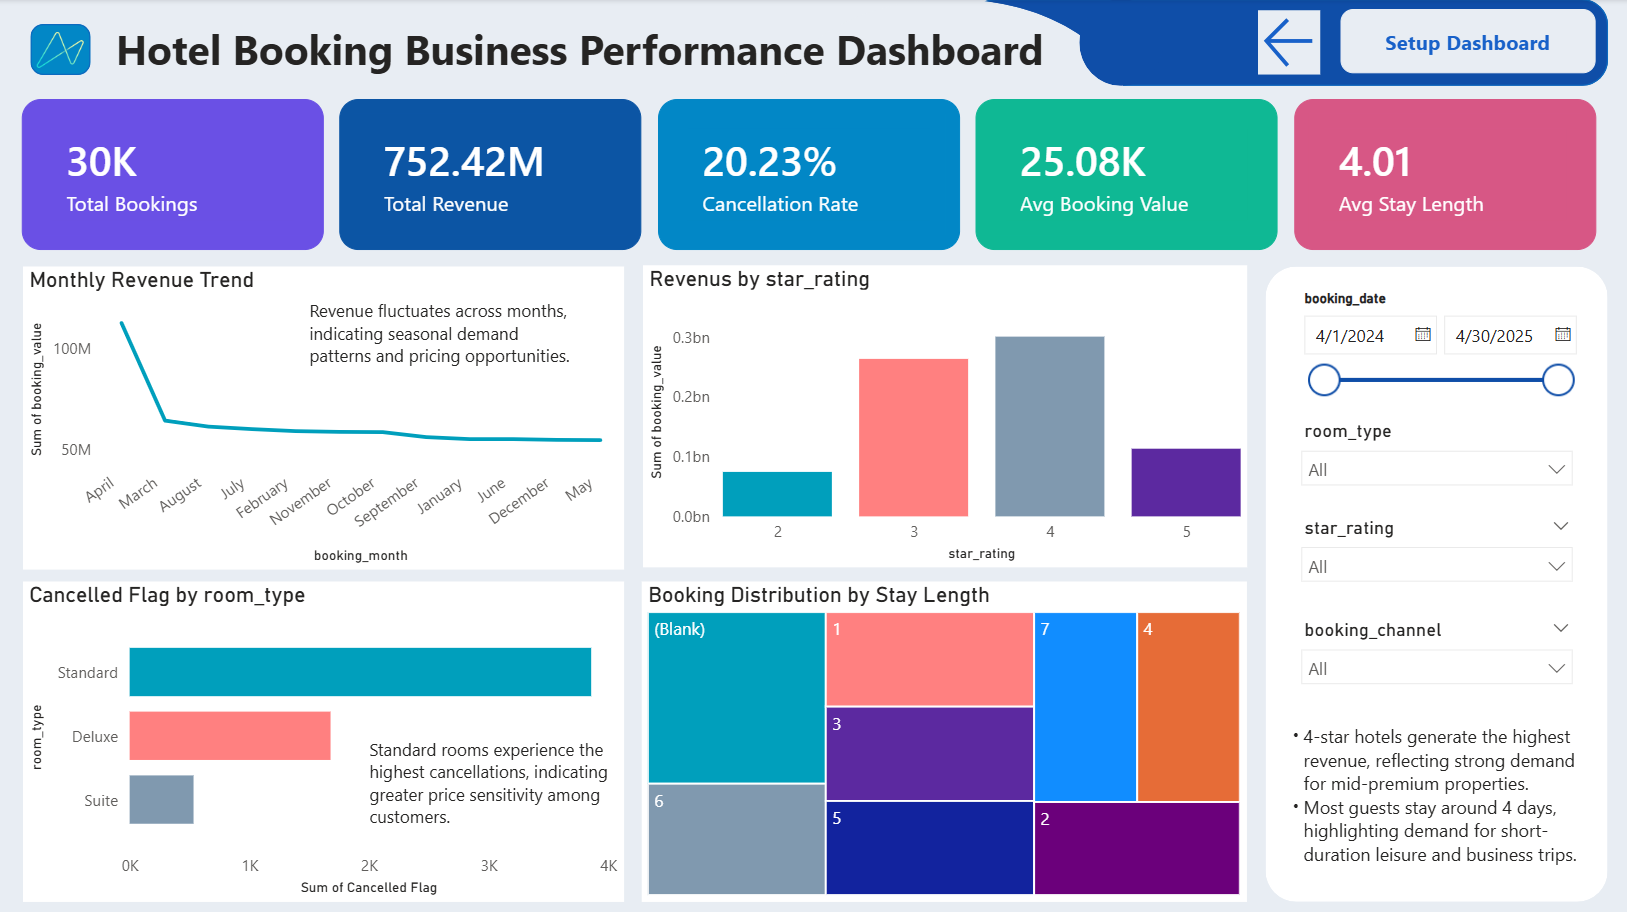

What the dashboard file says about the page in this screenshot:
{"tool":"powerbi","page":{"name":"Root Cause & Business Insights","canvas":[1280,720],"ordinal":1},"visuals":[{"type":"shape","box":[761.8,0,500.8,68.2],"z":0},{"type":"shape","box":[25.9,19.9,47,40],"z":0,"group":"g1"},{"type":"cardVisual","fields":{"Data":["Table.Total Bookings"]},"box":[18.8,78.6,237,118.7],"z":0,"group":"g3"},{"type":"shape","box":[608.7,0,278.3,182.7],"z":1000},{"type":"group","id":"g1","title":"Group 2","box":[25.9,19.9,47,40],"z":1000,"group":"g2"},{"type":"cardVisual","fields":{"Data":["Table.Total Revenue"]},"box":[268.1,78.6,237,118.7],"z":1000,"group":"g3"},{"type":"shape","box":[847.6,0,65.8,68.2],"z":2000},{"type":"cardVisual","fields":{"Data":["Table.Cancellation Rate"]},"box":[517.5,78.6,237,118.7],"z":2000,"group":"g3"},{"type":"textbox","box":[87.2,12.9,755.9,55.3],"z":3000,"group":"g2"},{"type":"cardVisual","fields":{"Data":["Table.Avg Booking Value"]},"box":[766.8,78.6,237,118.7],"z":3000,"group":"g3"},{"type":"shape","box":[993.4,209.8,268.3,498],"z":3000},{"type":"image","box":[30.6,23.5,36.7,32.9],"z":4000,"group":"g1"},{"type":"cardVisual","fields":{"Data":["Table.Avg Stay Length"]},"box":[1016.2,78.6,237,118.7],"z":4000,"group":"g3"},{"type":"slicer","fields":{"Values":["hotel_cleaned.room_type"]},"box":[1011.7,325,233.1,69.3],"z":4000},{"type":"slicer","fields":{"Values":["hotel_cleaned.booking_channel"]},"box":[1011.7,481.3,233.1,68],"z":5000},{"type":"slicer","fields":{"Values":["hotel_cleaned.star_rating"]},"box":[1011.7,400.6,233.1,71.8],"z":6000},{"type":"treemap","title":"Booking Distribution by Stay Length","fields":{"Group":["hotel_cleaned.stay_length"],"Values":["CountNonNull(hotel_cleaned.customer_id)"]},"box":[505,457,474,251],"z":7000},{"type":"actionButton","box":[1052.2,8.2,199.9,50.6],"z":8000},{"type":"group","id":"g2","title":"Group 3","box":[25.9,12.9,817,55.3],"z":9000},{"type":"group","id":"g3","title":"Group 1","box":[18.8,78.6,1234.4,118.7],"z":10000},{"type":"lineChart","title":"Monthly Revenue Trend","fields":{"Category":["hotel_cleaned.booking_month"],"Y":["Sum(hotel_cleaned.booking_value)"]},"box":[20,209.3,471.4,237.5],"z":11000},{"type":"slicer","fields":{"Values":["hotel_cleaned.booking_date"]},"box":[1011.7,223,233.1,93.2],"z":12000},{"type":"columnChart","title":"Revenus by star_rating","fields":{"Category":["hotel_cleaned.star_rating"],"Y":["Sum(hotel_cleaned.booking_value)"]},"box":[505.2,209.1,473.7,236.9],"z":13000},{"type":"clusteredBarChart","title":"Cancelled Flag by room_type","fields":{"Category":["hotel_cleaned.room_type"],"Y":["Sum(hotel_cleaned.Cancelled Flag)"]},"box":[20,457,471,251],"z":14000},{"type":"textbox","box":[239.4,230.6,225.5,69.3],"z":15000},{"type":"textbox","box":[286,574.5,219.2,93.2],"z":16000},{"type":"textbox","box":[1000.3,563.1,259.5,126],"z":17000},{"type":"actionButton","box":[987.7,8.8,49.1,50.4],"z":18000}]}

Visuals, with their boxes in screenshot pixels (x1, y1, x2, y2), scaled from the page's 1280x720 canvas onto the 1627x912 screenshot:
shape: bbox=(968, 0, 1605, 86)
shape: bbox=(33, 25, 93, 76)
cardVisual - Table.Total Bookings: bbox=(24, 100, 325, 250)
shape: bbox=(774, 0, 1127, 231)
"Group 2" group: bbox=(33, 25, 93, 76)
cardVisual - Table.Total Revenue: bbox=(341, 100, 642, 250)
shape: bbox=(1077, 0, 1161, 86)
cardVisual - Table.Cancellation Rate: bbox=(658, 100, 959, 250)
textbox: bbox=(111, 16, 1072, 86)
cardVisual - Table.Avg Booking Value: bbox=(975, 100, 1276, 250)
shape: bbox=(1263, 266, 1604, 897)
image: bbox=(39, 30, 86, 71)
cardVisual - Table.Avg Stay Length: bbox=(1292, 100, 1593, 250)
slicer - hotel_cleaned.room_type: bbox=(1286, 412, 1582, 499)
slicer - hotel_cleaned.booking_channel: bbox=(1286, 610, 1582, 696)
slicer - hotel_cleaned.star_rating: bbox=(1286, 507, 1582, 598)
"Booking Distribution by Stay Length" treemap: bbox=(642, 579, 1244, 897)
actionButton: bbox=(1337, 10, 1592, 74)
"Group 3" group: bbox=(33, 16, 1071, 86)
"Group 1" group: bbox=(24, 100, 1593, 250)
"Monthly Revenue Trend" lineChart: bbox=(25, 265, 625, 566)
slicer - hotel_cleaned.booking_date: bbox=(1286, 282, 1582, 401)
"Revenus by star_rating" columnChart: bbox=(642, 265, 1244, 565)
"Cancelled Flag by room_type" clusteredBarChart: bbox=(25, 579, 624, 897)
textbox: bbox=(304, 292, 591, 380)
textbox: bbox=(364, 728, 642, 846)
textbox: bbox=(1271, 713, 1601, 873)
actionButton: bbox=(1255, 11, 1318, 75)
